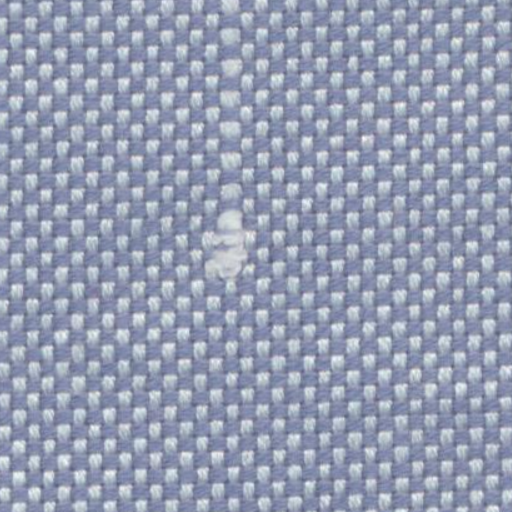DaiSha: (197, 0, 260, 289)
